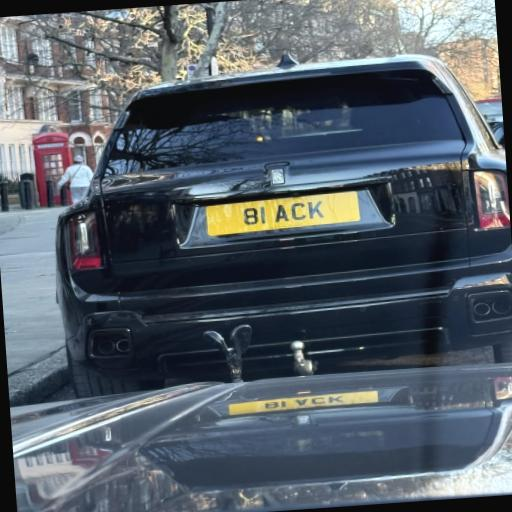numberplates: (207, 192, 360, 236), (229, 391, 378, 415)
